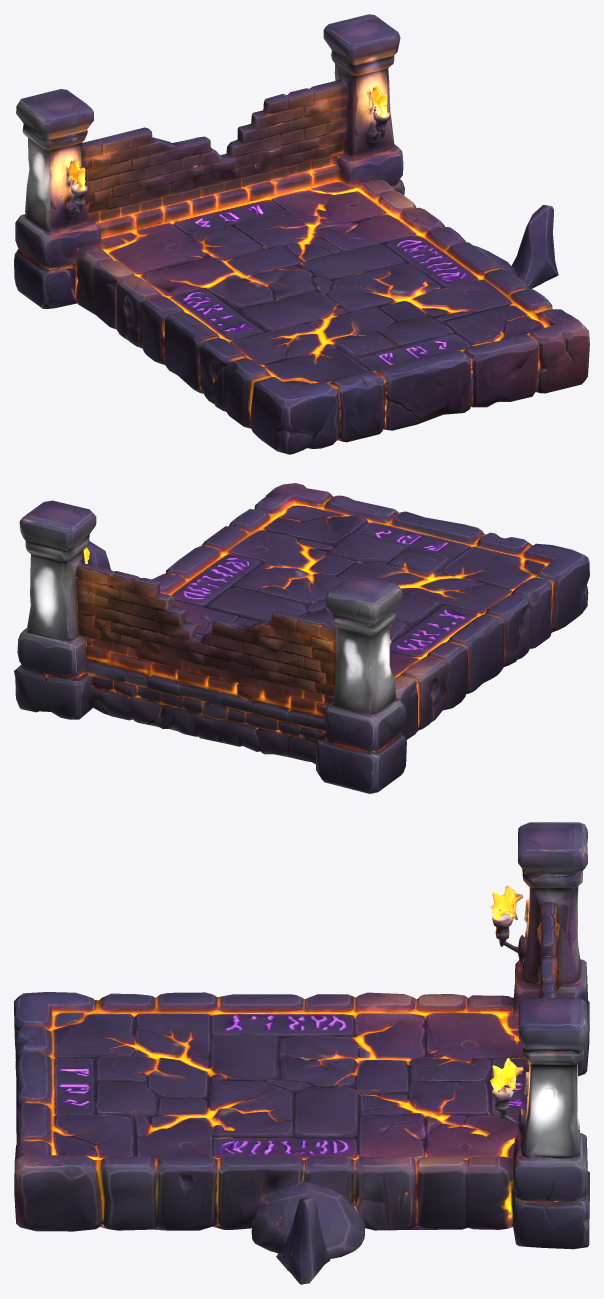
Rendered from arena2_otimizada.glb.
The picture shows the model from 3 angles, top to bottom: view 1: azimuth 30°, elevation 25°; view 2: azimuth 150°, elevation 25°; view 3: azimuth 270°, elevation 25°; orthographic projection. The views are drawn at different scales.
Visible parts, largest first — view 1: Mesh1.0; view 2: Mesh1.0; view 3: Mesh1.0.
Boxes of the visible parts, x1=… form: Mesh1.0: x1=14, y1=14, x2=589, y2=454; Mesh1.0: x1=14, y1=483, x2=589, y2=793; Mesh1.0: x1=14, y1=822, x2=589, y2=1284.
Size of the model in its own units: 1.91 by 0.8169 by 1.91.
Materials: 1 (1 with a texture image).
